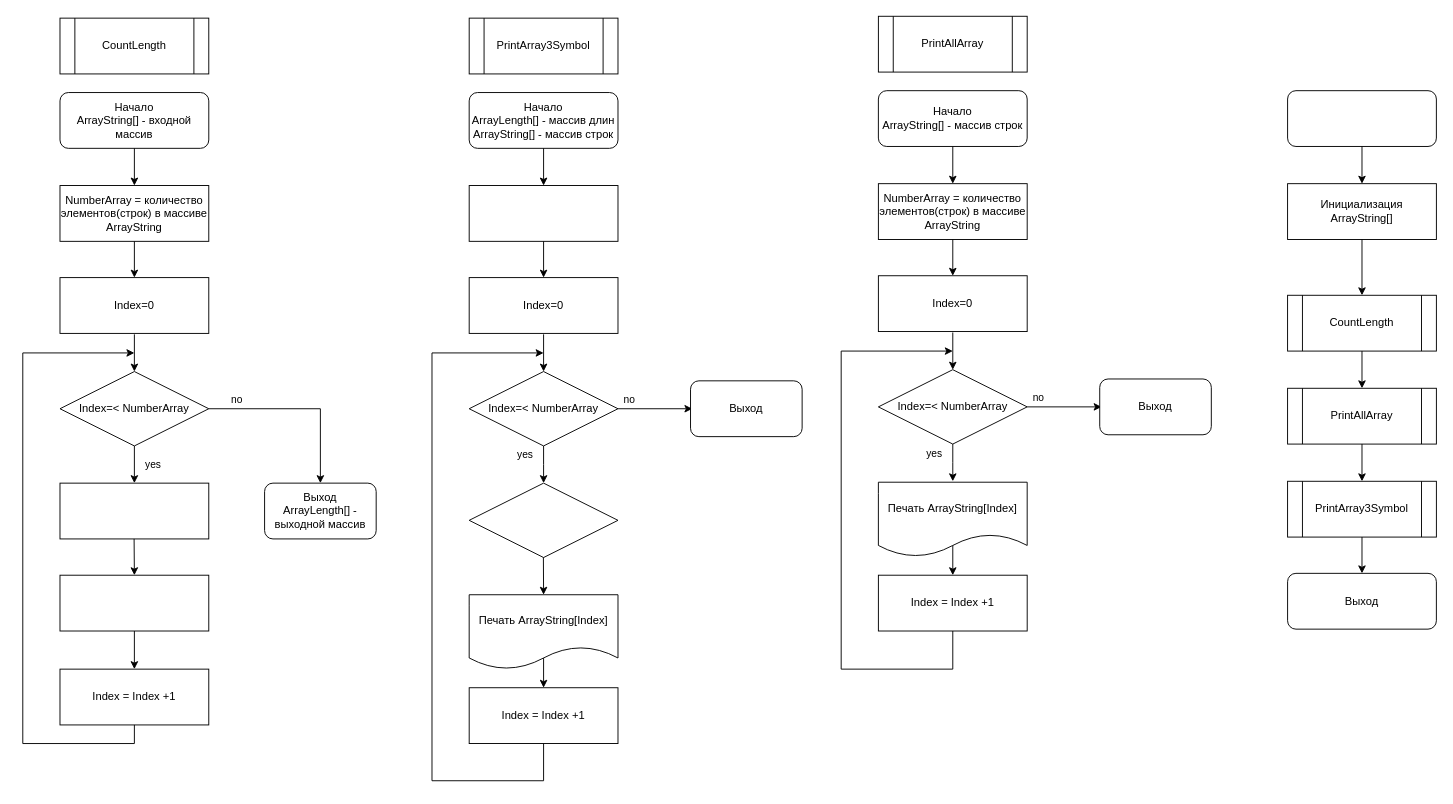
Some shapes in this 1453 by 804 pixel diagram are drawn without their labels. Each missing label, with the box of its shape:
ArrayLength[Index] = StringLength: (59, 574, 209, 631)
ArrayLength[Index] =<MaxLength: (468, 482, 618, 558)
NumberArray = количество элементов(строк) в массиве ArrayLength: (468, 185, 618, 241)
StringLength = количество символов в элементе ArrayString[Index]: (59, 482, 209, 539)
Начало: (1287, 90, 1436, 146)
